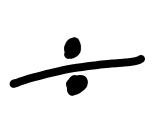div: (10, 40, 145, 94)
